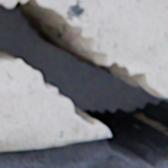broken_brick: (35, 0, 167, 96), (0, 60, 109, 150), (0, 0, 25, 7)
crack: (0, 0, 167, 167)
